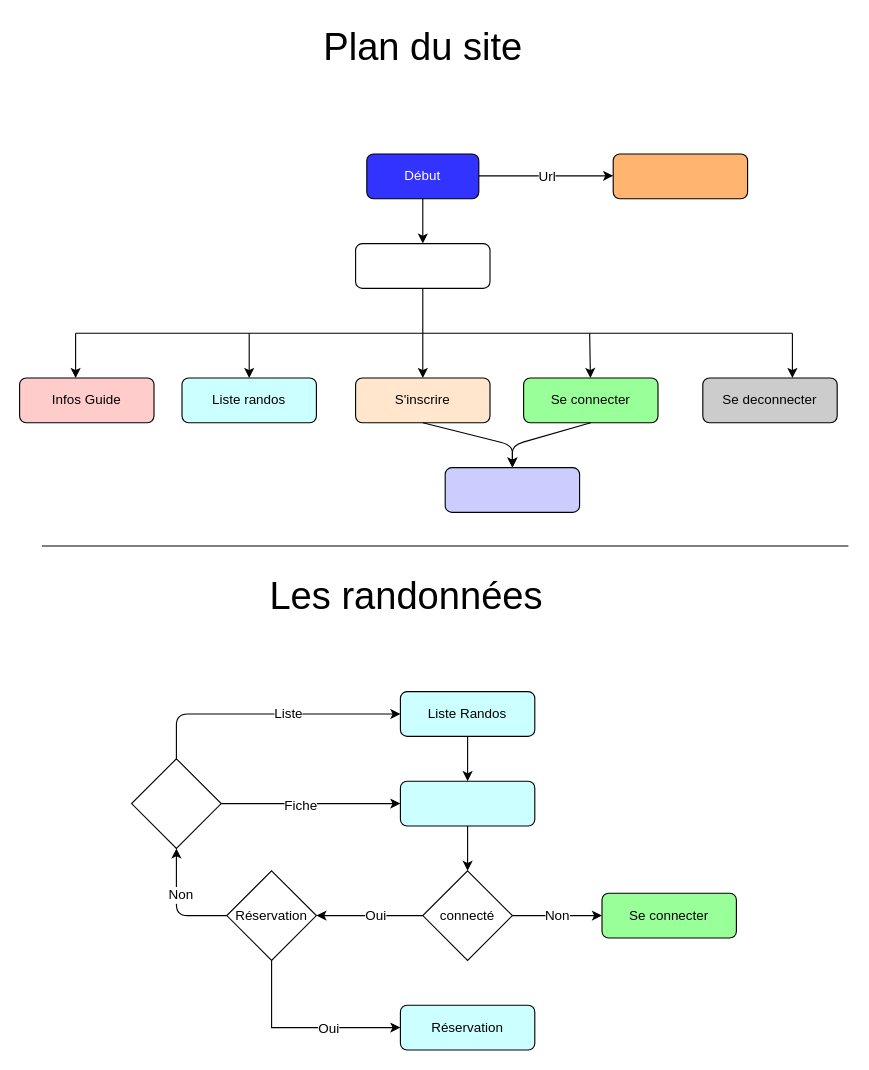
This 869x1070 diagram has some shape labels left out. The shapes that lost their labels are listed below. From the top down, each one's centre as x and y in pixels, then its label:
At point (680, 176): "Admin".
At point (422, 265): "Randonnée".
At point (512, 489): "Compte".
At point (175, 803): "Décision".
At point (467, 803): "Fiche Rando".
